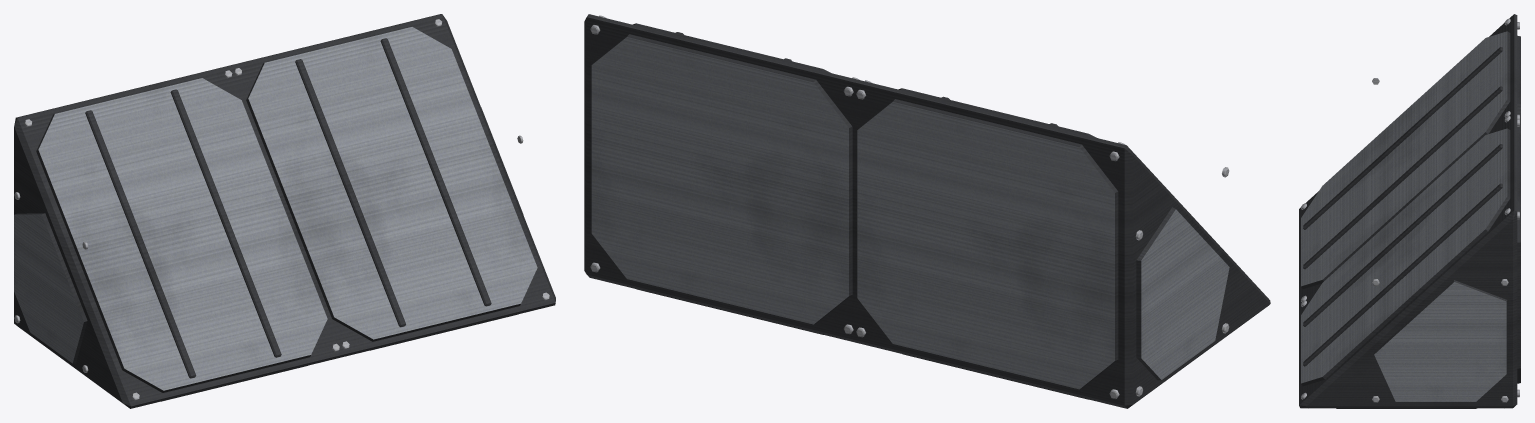
File: R4B_WideWedge.glb
The picture shows the model from 3 angles, left to right: view 1: azimuth 30°, elevation 25°; view 2: azimuth 150°, elevation 25°; view 3: azimuth 270°, elevation 25°; orthographic projection. The views are drawn at different scales.
Parts seen in each view (by area): view 1: R4B_WideWedge; view 2: R4B_WideWedge; view 3: R4B_WideWedge.
Part boxes in pixels (x1,y1,x2,y2): R4B_WideWedge: [14, 14, 555, 408]; R4B_WideWedge: [584, 14, 1270, 408]; R4B_WideWedge: [1299, 14, 1520, 408].
Size of the model in its own units: 1.07 by 0.4936 by 0.4936.
Materials: 3 (3 with a texture image).
